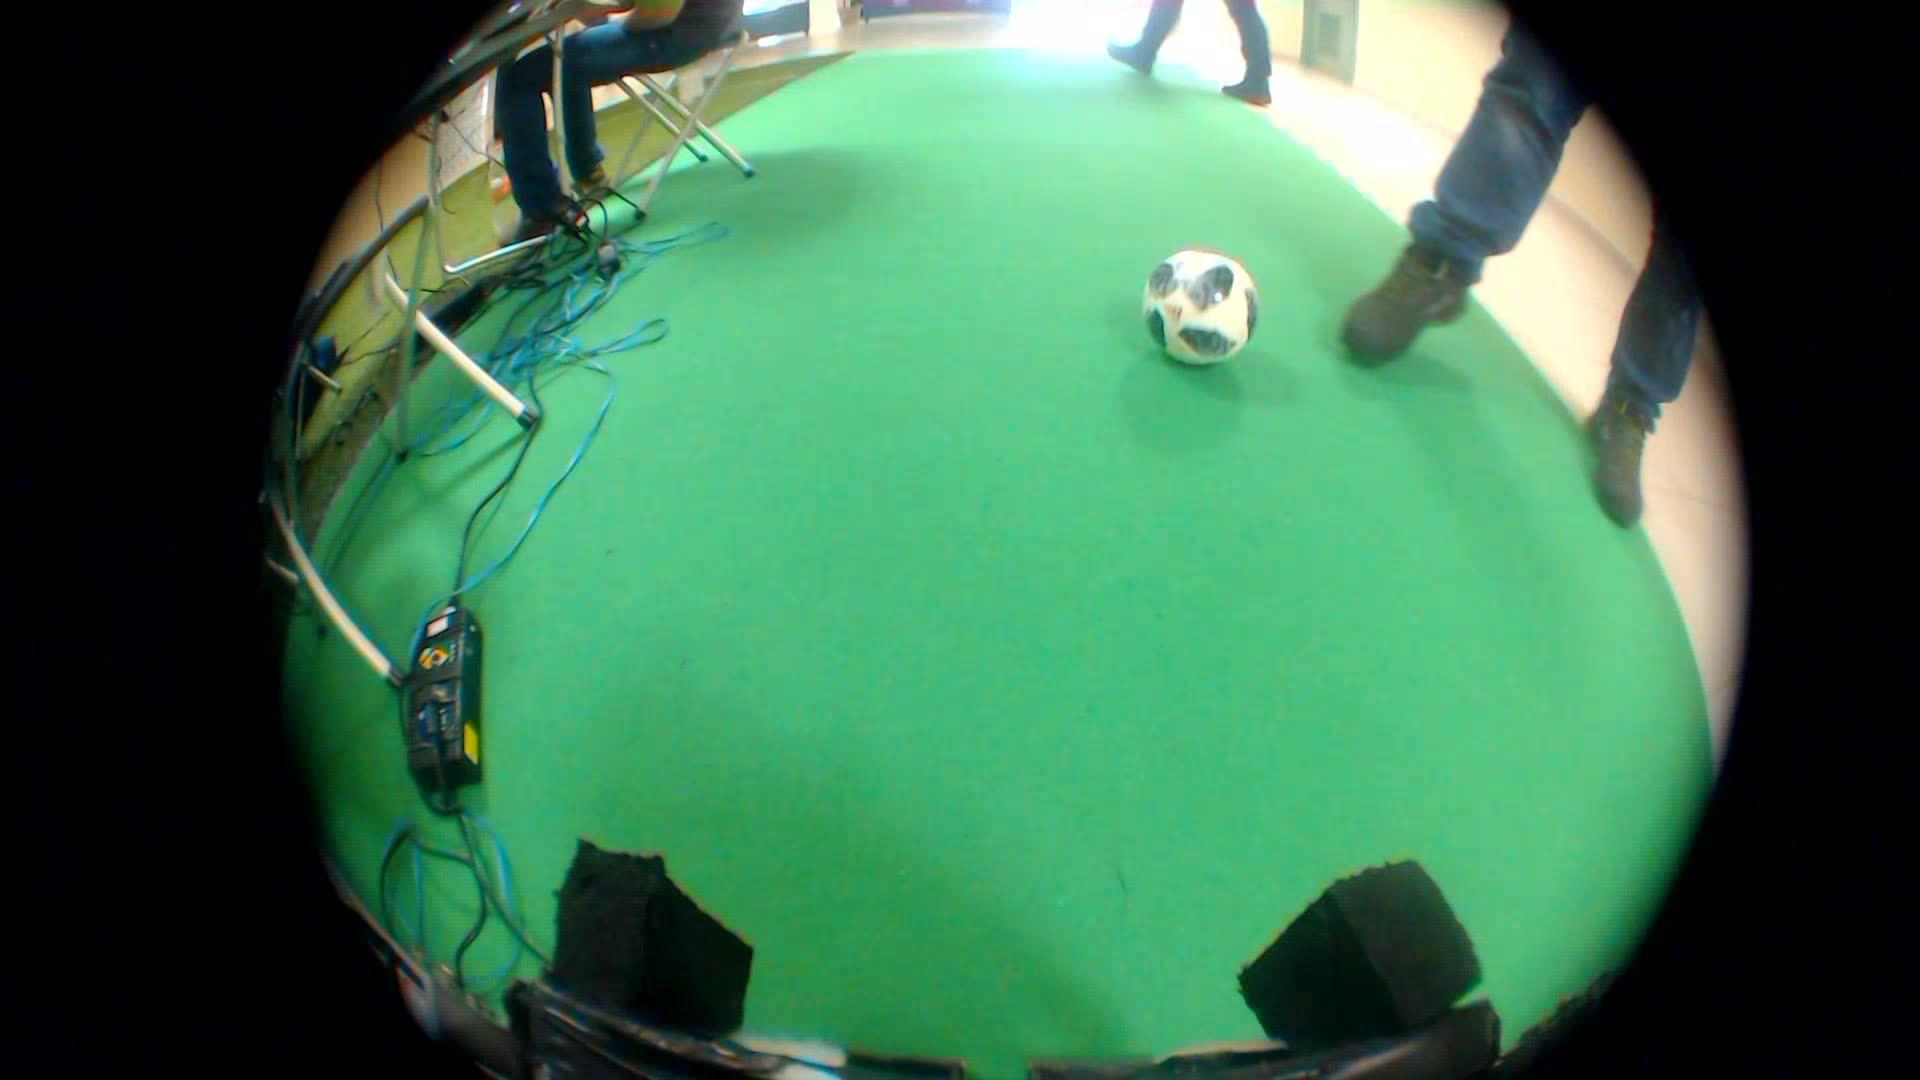ball: (1120, 228, 1276, 371)
